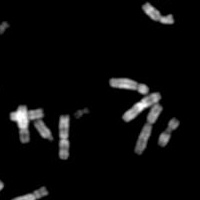chromosome: (135, 104, 163, 154), (122, 92, 161, 122), (142, 2, 174, 24), (158, 117, 180, 146), (109, 79, 148, 95), (11, 186, 48, 200), (58, 115, 69, 160), (18, 105, 29, 143), (9, 108, 44, 119), (35, 120, 53, 140), (75, 108, 88, 118), (0, 21, 9, 34), (0, 180, 4, 200)
